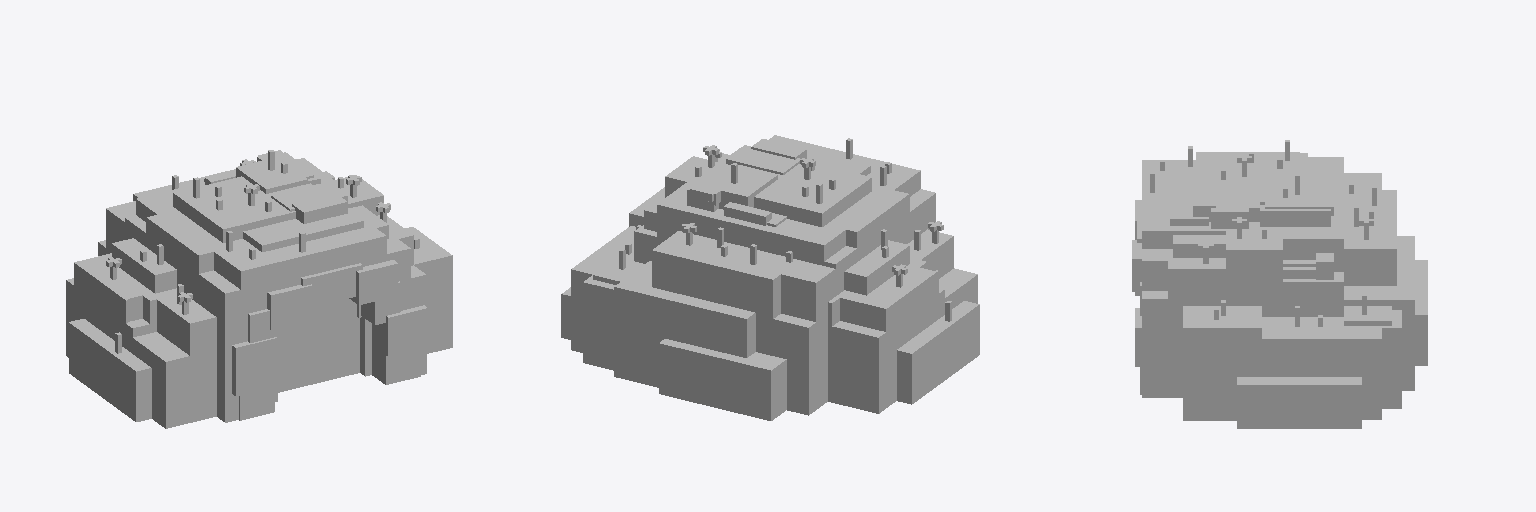
The model's file is house-1.obj.
3 views of the same model, side by side, from view 1: azimuth 30°, elevation 25°; view 2: azimuth 150°, elevation 25°; view 3: azimuth 270°, elevation 25° (orthographic).
Visible parts, largest first — view 1: object 1; view 2: object 1; view 3: object 1.
Part boxes in pixels (x1,y1,x2,y2): object 1: (66,150,452,428); object 1: (561,135,979,420); object 1: (1132,140,1427,428).
Size of the model in its own units: 15 by 8 by 11.6.